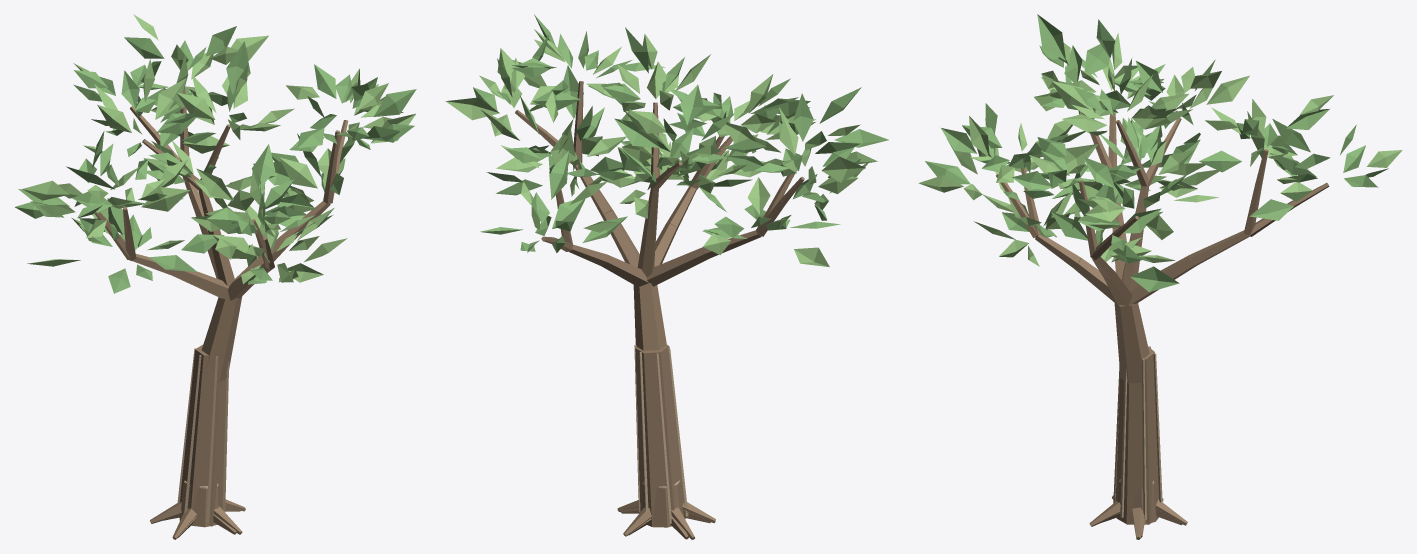
Rendered from plant-kouzo-b_lod1.glb.
The picture shows the model from 3 angles, left to right: view 1: azimuth 30°, elevation 25°; view 2: azimuth 150°, elevation 25°; view 3: azimuth 270°, elevation 25°; orthographic projection. The views are drawn at different scales.
Visible parts, largest first — view 1: plant-kouzo-b_standing_kouzoLeaf, plant-kouzo-b_standing_leafB, plant-kouzo-b_standing_bark, plant-kouzo-b_standing_barkLight, plant-kouzo-b_stump_bark; view 2: plant-kouzo-b_standing_kouzoLeaf, plant-kouzo-b_standing_leafB, plant-kouzo-b_standing_bark, plant-kouzo-b_standing_barkLight, plant-kouzo-b_stump_bark; view 3: plant-kouzo-b_standing_kouzoLeaf, plant-kouzo-b_standing_leafB, plant-kouzo-b_standing_bark, plant-kouzo-b_standing_barkLight, plant-kouzo-b_stump_bark.
Part boxes in pixels (x1=…): plant-kouzo-b_standing_kouzoLeaf: x1=15, y1=26, x2=416, y2=293; plant-kouzo-b_standing_leafB: x1=22, y1=14, x2=415, y2=284; plant-kouzo-b_standing_bark: x1=94, y1=87, x2=348, y2=539; plant-kouzo-b_standing_barkLight: x1=177, y1=348, x2=229, y2=523; plant-kouzo-b_stump_bark: x1=164, y1=481, x2=240, y2=538; plant-kouzo-b_standing_kouzoLeaf: x1=473, y1=14, x2=888, y2=252; plant-kouzo-b_standing_leafB: x1=445, y1=29, x2=877, y2=267; plant-kouzo-b_standing_bark: x1=515, y1=81, x2=804, y2=539; plant-kouzo-b_standing_barkLight: x1=634, y1=345, x2=688, y2=523; plant-kouzo-b_stump_bark: x1=620, y1=481, x2=710, y2=539; plant-kouzo-b_standing_kouzoLeaf: x1=925, y1=14, x2=1388, y2=292; plant-kouzo-b_standing_leafB: x1=918, y1=33, x2=1402, y2=266; plant-kouzo-b_standing_bark: x1=996, y1=112, x2=1329, y2=539; plant-kouzo-b_standing_barkLight: x1=1113, y1=346, x2=1162, y2=520; plant-kouzo-b_stump_bark: x1=1102, y1=481, x2=1181, y2=537.
Size of the model in its own units: 4.18 by 4.86 by 4.43.
